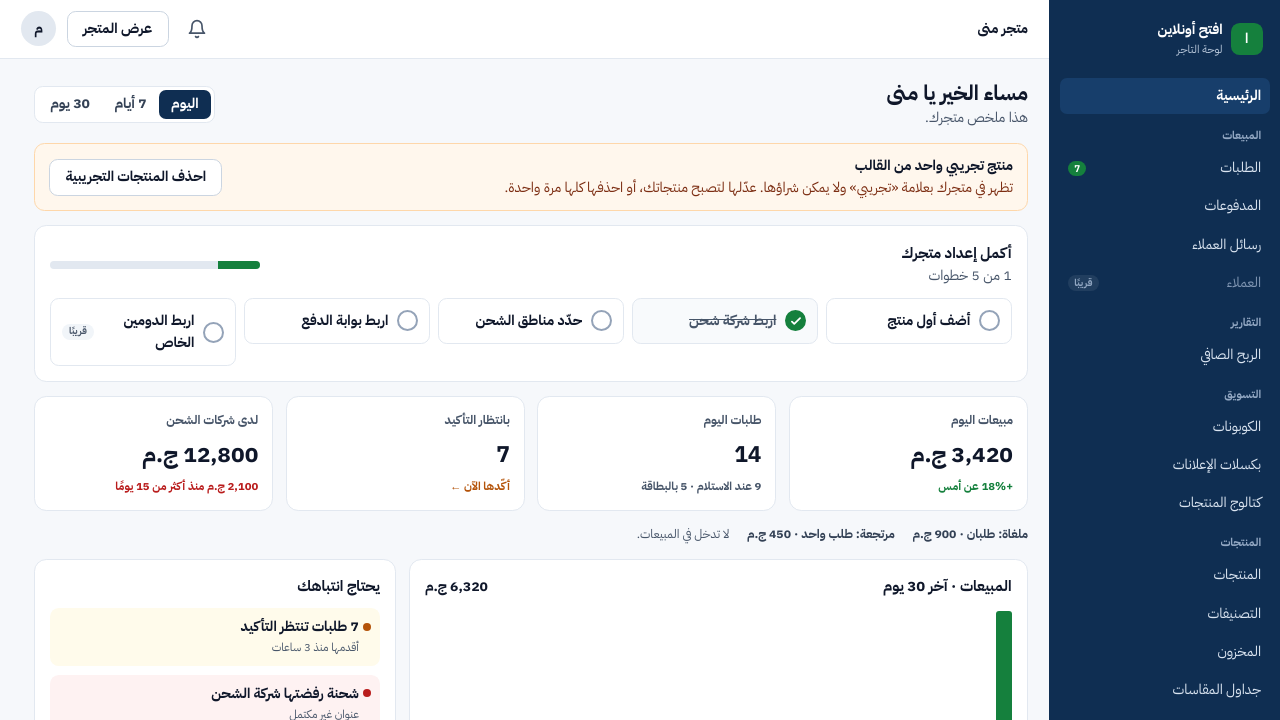
Test: Overview › shows the period, what is left to set up, what needs attention and the latest orders
Expected: the heading "مساء الخير يا منى" is shown, [887,80,1028,107]
Expected: the text "9 عند الاستلام · 5 بالبطاقة" is shown, [641,478,762,495]
Click the button "7 أيام" at (130, 105), box [102,90,159,120]
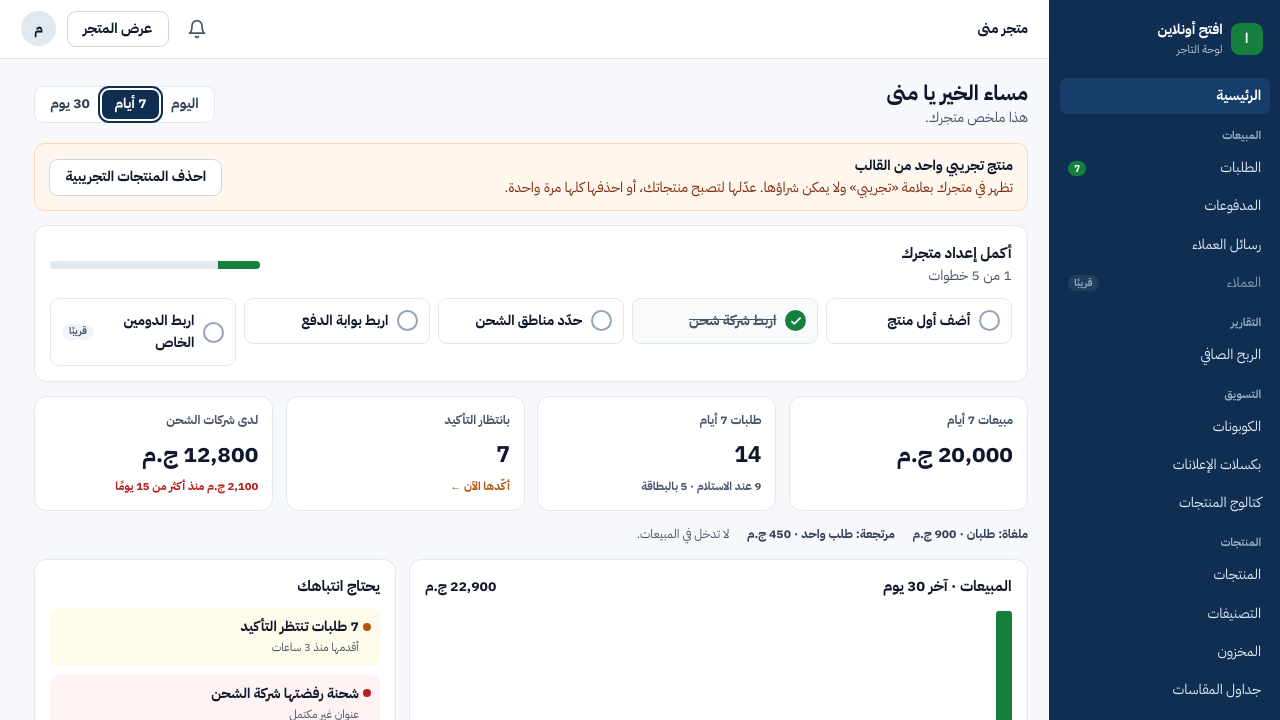
Now the link "مبيعات 7 أيام 20,000 ج.م" is shown, box [789,396,1028,511]
